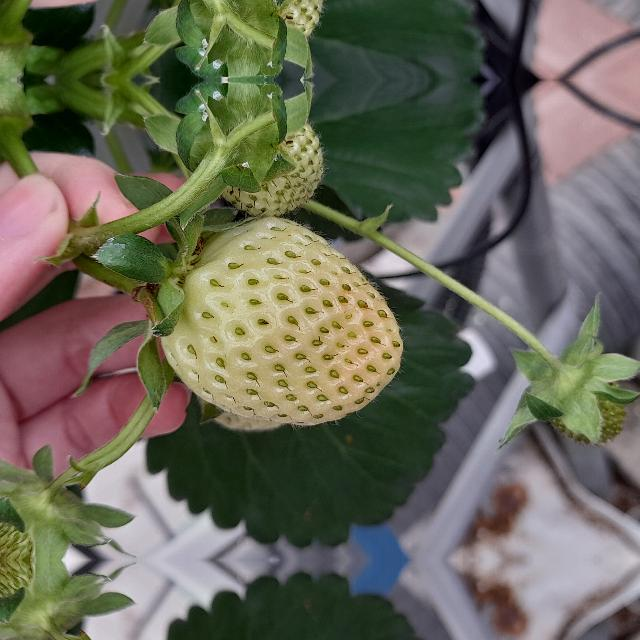Health_25: (160, 216, 402, 424), (194, 112, 326, 216), (526, 351, 628, 443), (194, 0, 326, 48)
